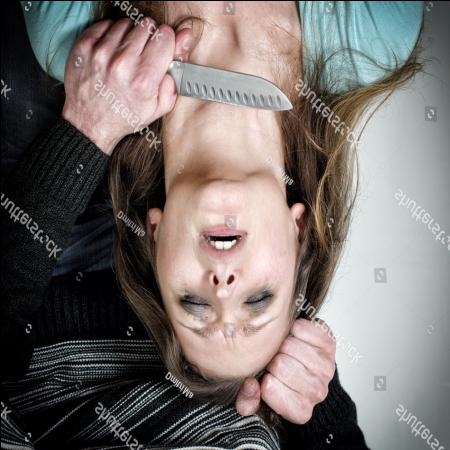long weapon: (108, 13, 301, 117)
